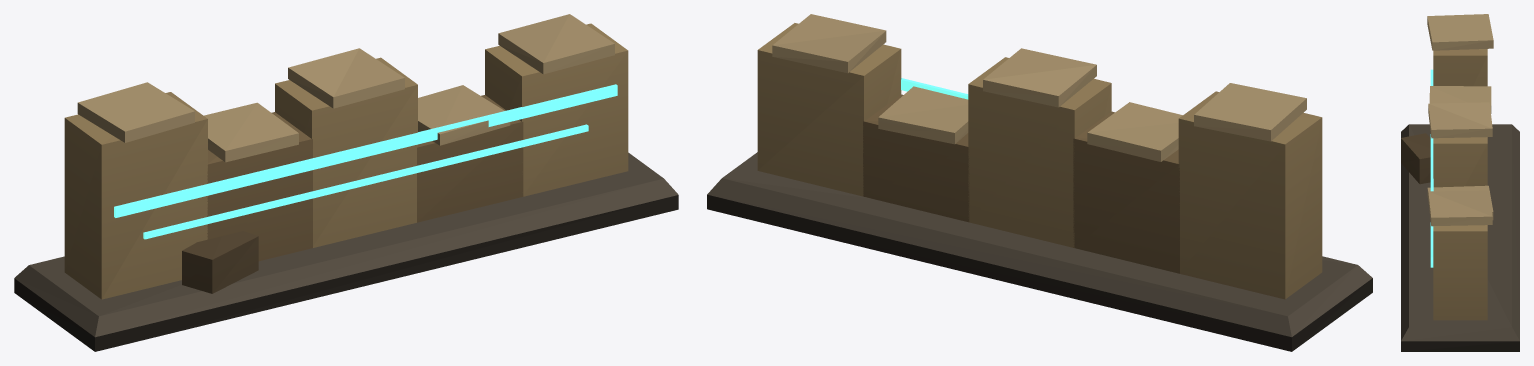
File: temple-carved-wall.glb
3 renders of one model, left to right at view 1: azimuth 30°, elevation 25°; view 2: azimuth 150°, elevation 25°; view 3: azimuth 270°, elevation 25°, orthographic. The views are drawn at different scales.
Bounding box in the file's own units: 5 × 1.6 × 1.2.
